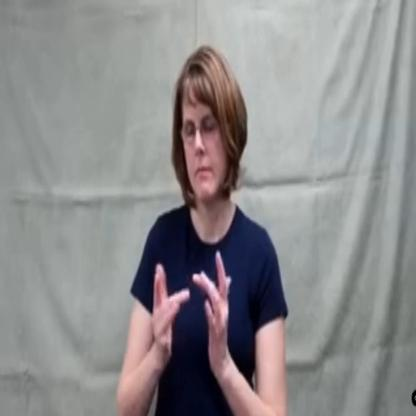Internet: (148, 243, 239, 373)
